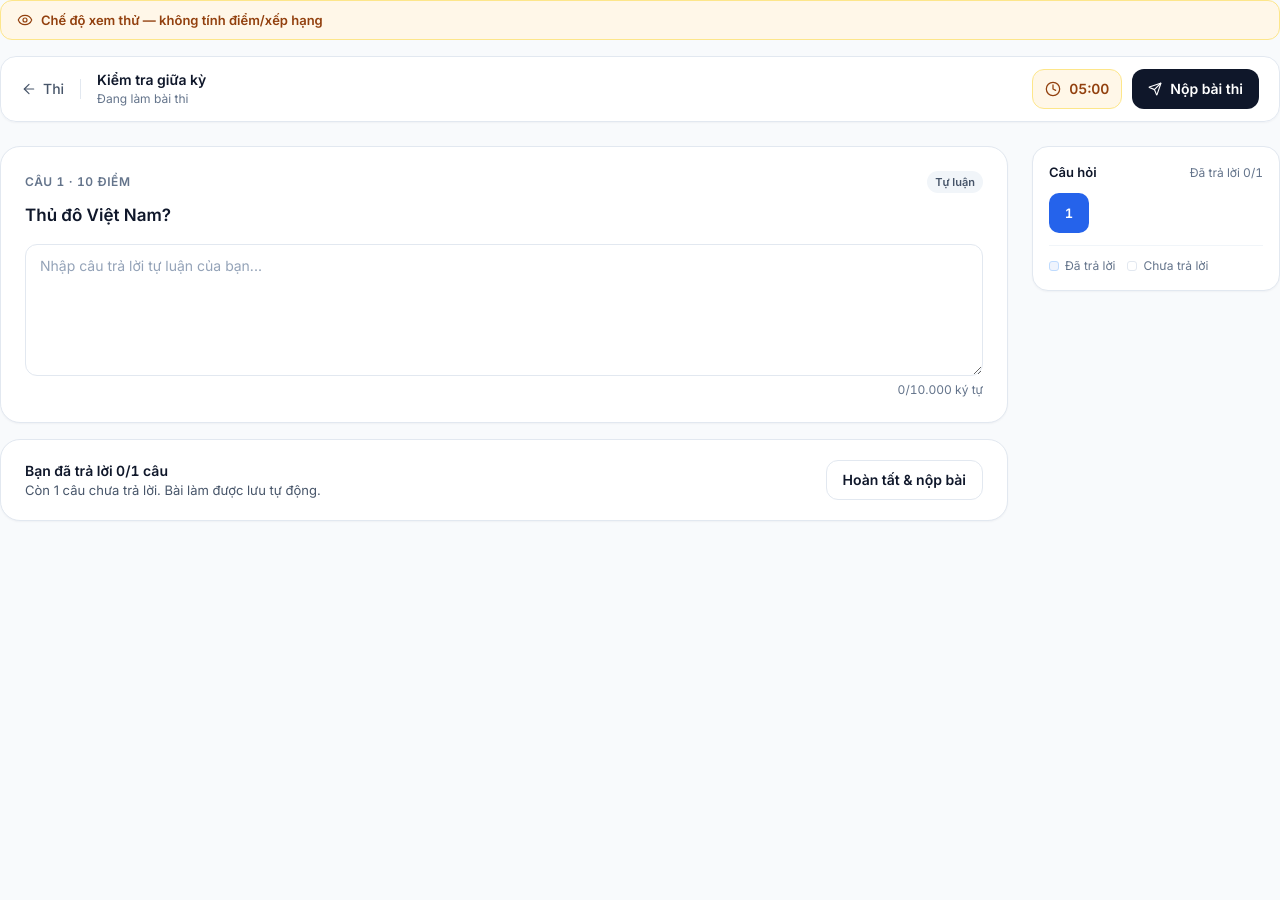
ExamAttemptPage — preview mode (R13-04) › submitting a preview attempt navigates to the result page with the preview flag, which shows the preview banner
This screenshot has width=1280, height=900.
Expected: the text "Nộp bài thi" is shown, [1170,79,1243,99]
Click the button "Nộp bài thi": (1196, 89) [1132,69,1259,109]
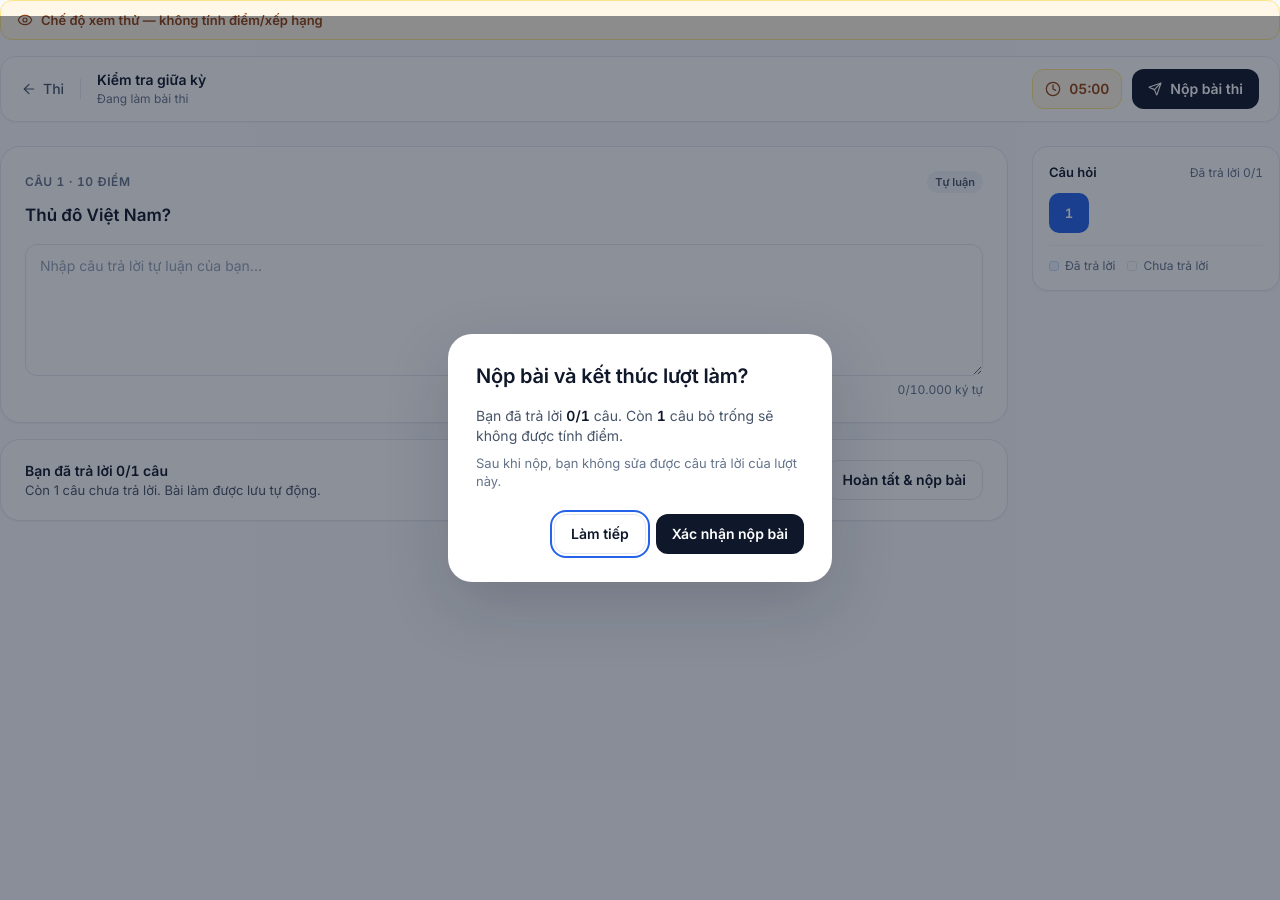
Click the button "Xác nhận nộp bài": (730, 534) [656,514,804,554]
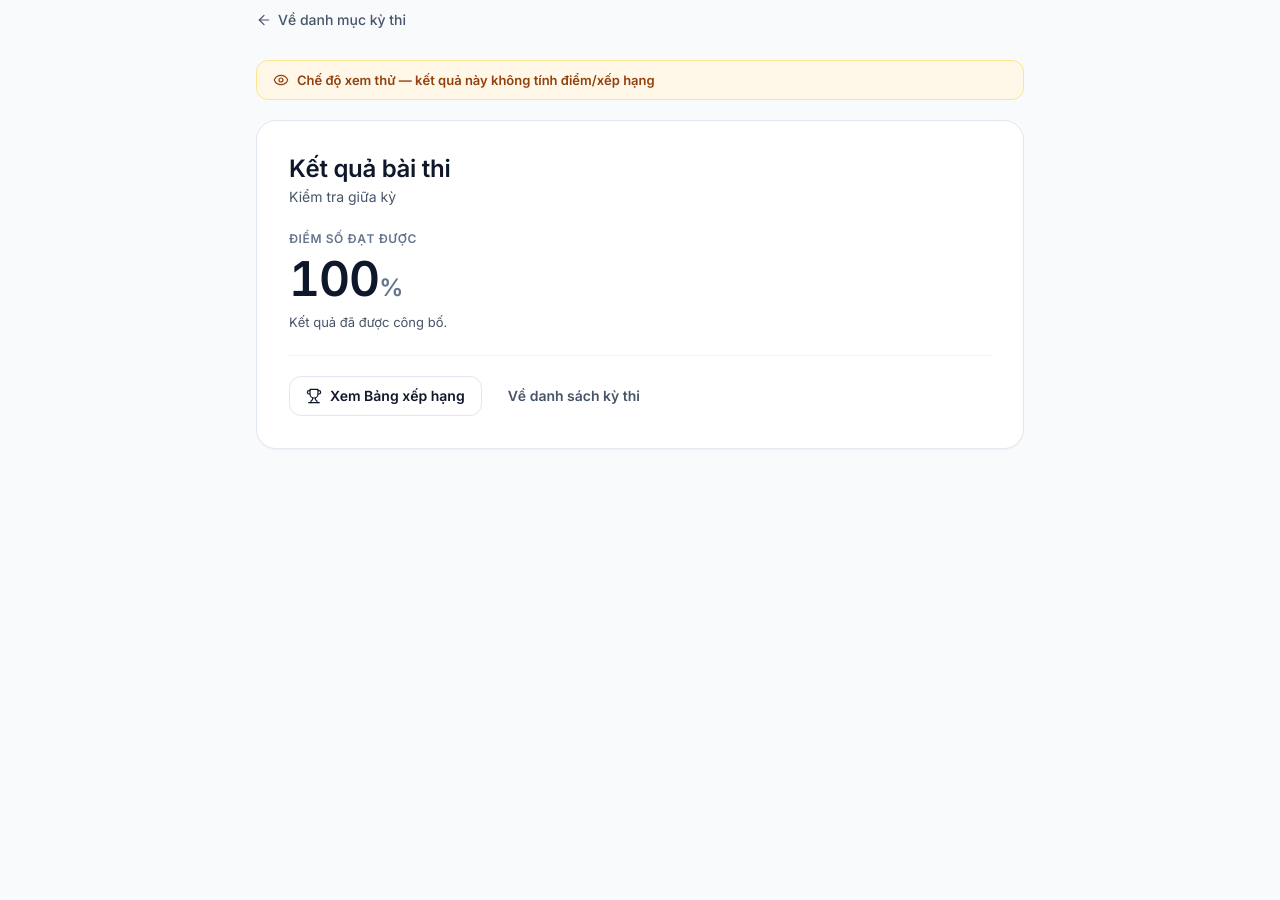
Expected: the text "Chế độ xem thử — kết quả này không tính điểm/xếp hạng" is shown, [256,60,1024,100]
Now the heading "Kết quả bài thi" is shown, box [289,153,450,185]
